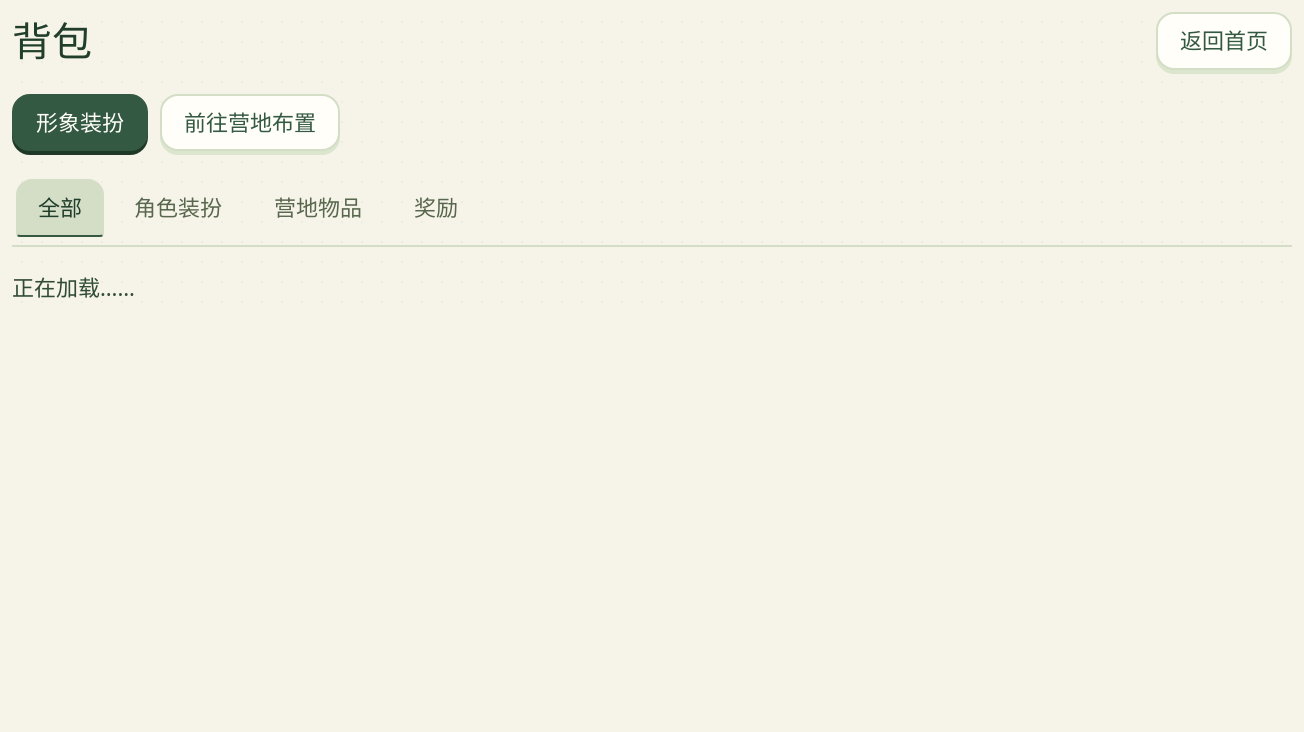
Scenario: 小岛商店与多件所有权 › 过滤后的第一页没有岛屿物品时保留翻页，不误报空库存
What coordinates should you click on to do the following:
click the tab "营地物品"
I would click on:
 (318, 208)
Its box is [252, 179, 384, 237].
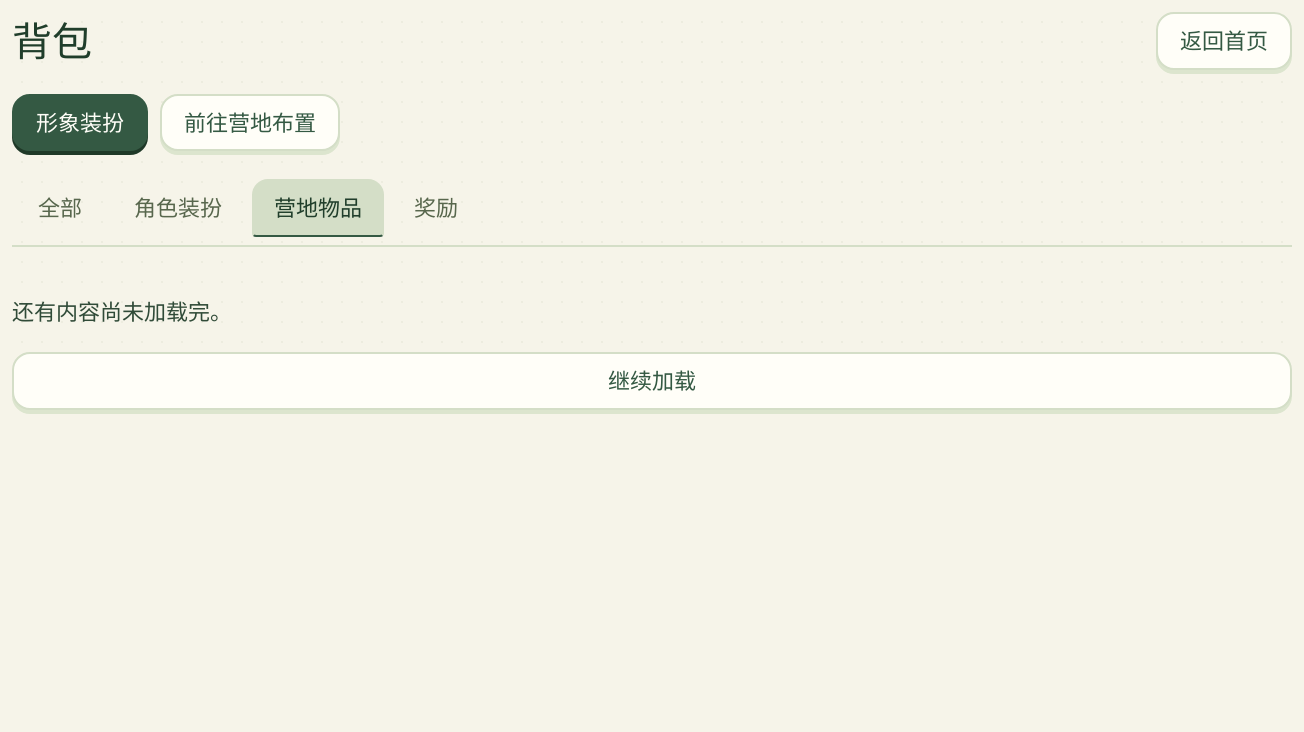
What coordinates should you click on to do the following:
click the button "继续加载"
I would click on:
 (652, 381)
Its box is [12, 352, 1292, 410].
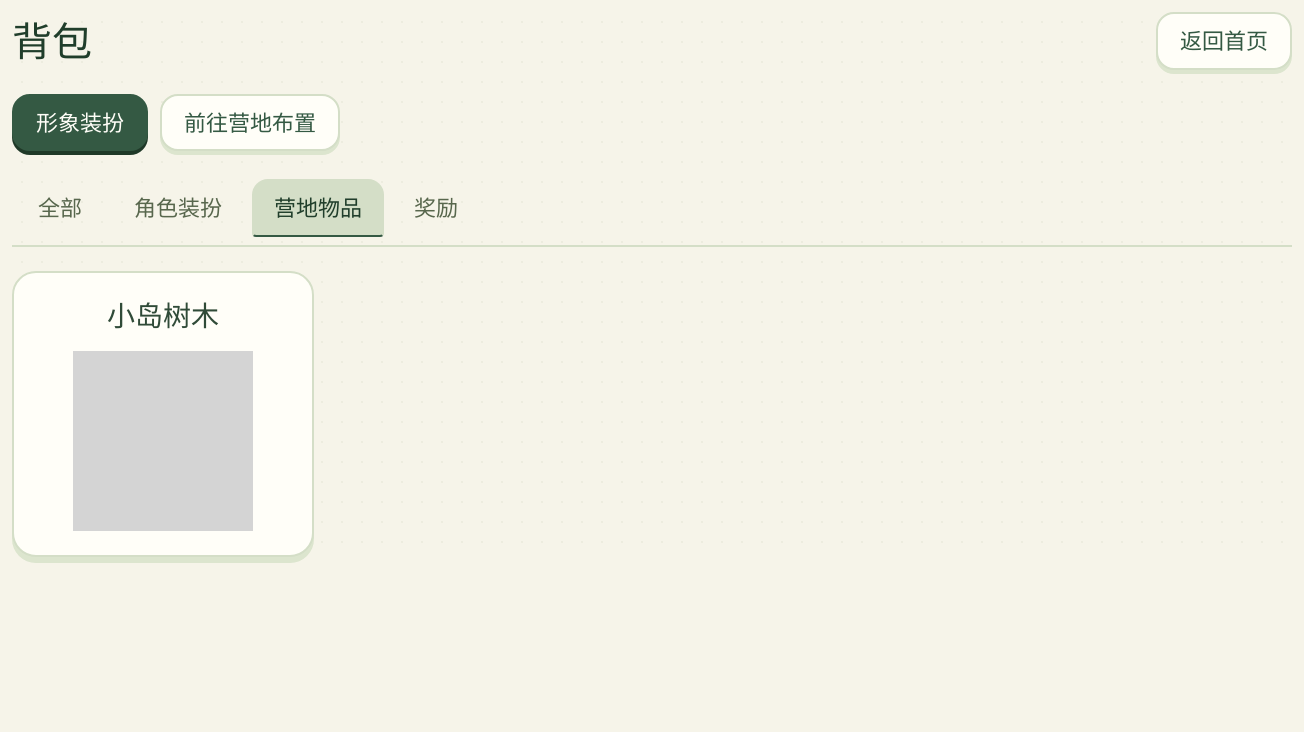
Check: the heading "小岛树木" is shown, box [107, 296, 219, 334]
